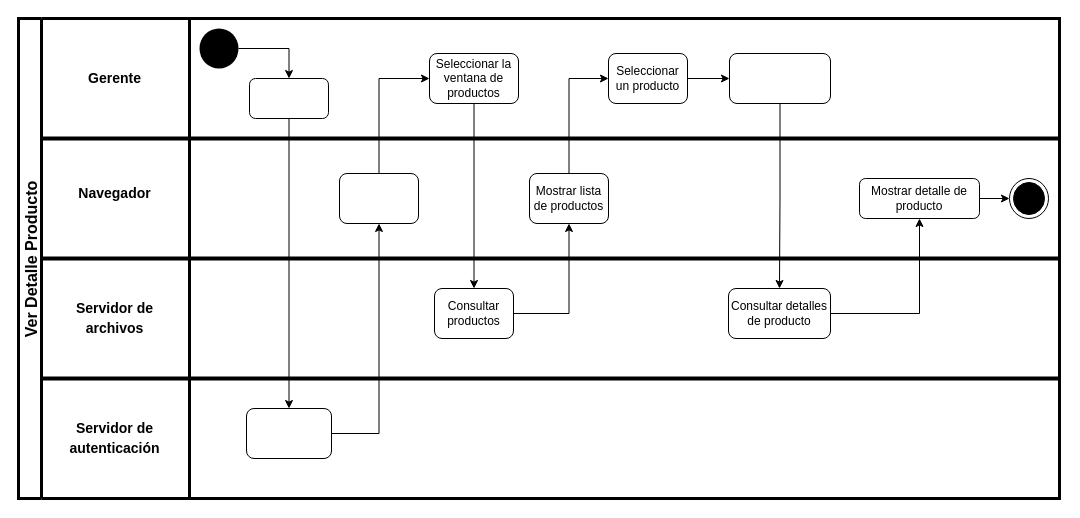
Image size: 1080x518. Some labels were removed from this diagram. Here are the shapes that lost their labels. From the top down, the centre of each, then its label:
[288,98]: Ingresar su usuario
[779,78]: Presionar botón "Detalles"
[378,198]: Mostrar la ventana de Gerencia
[289,433]: Autenticar los permisos de usuario
